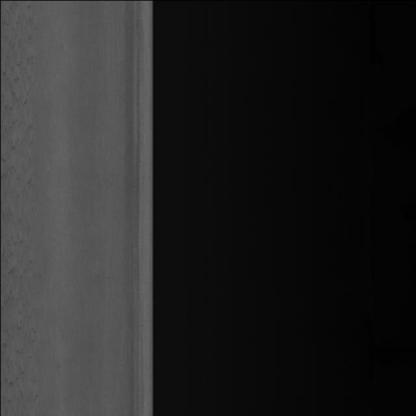silk_spot: (5, 50, 47, 394)
